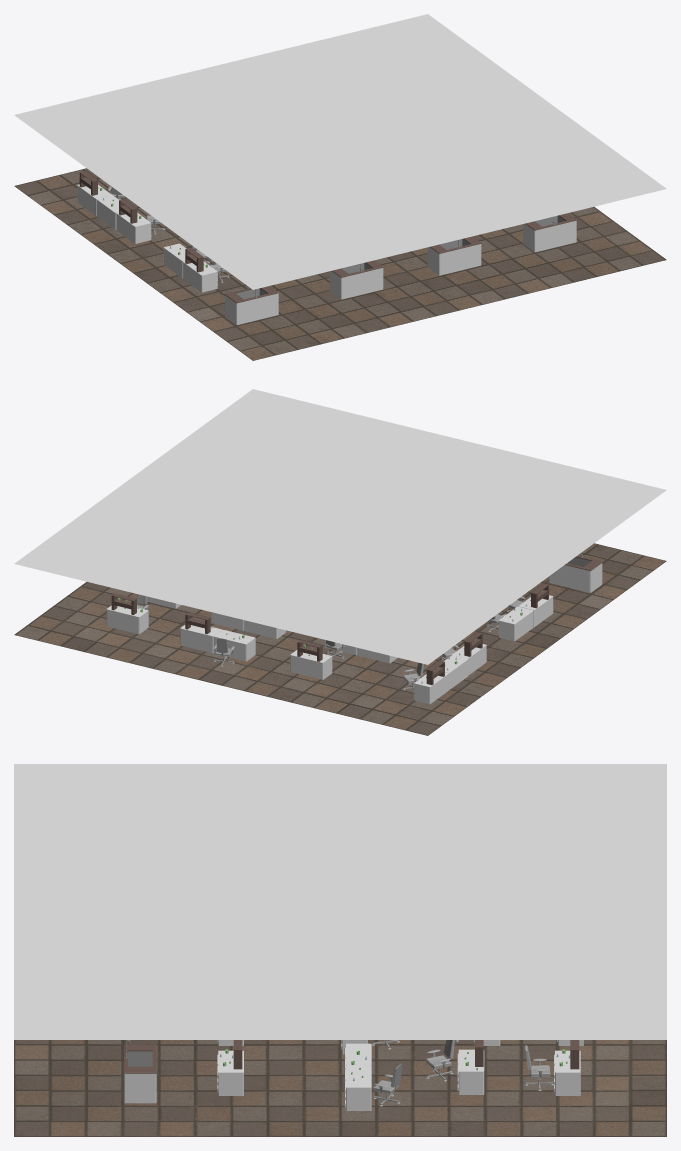
The picture shows the model from 3 angles, top to bottom: view 1: azimuth 30°, elevation 25°; view 2: azimuth 150°, elevation 25°; view 3: azimuth 270°, elevation 25°; orthographic projection. The views are drawn at different scales.
Visible parts, largest first — view 1: Techo2, Suelo2, NurbsPath.009, NurbsPath.007, NurbsPath.006, NurbsPath.008, Cube.060, Cube.064, Cube.063, Cube.062, Cube.057; view 2: Techo2, Suelo2, NurbsPath.009, Cube.084, Cube.062, Cube.056, Cube.071, Cube.072, Cube.057, Cube.063, Cube.064; view 3: Techo2, Suelo2, NurbsPath.008, Cube.086, Cube.097, Cube.084, Cube.054, Cube.087, Cylinder.304, Cylinder.263.
Boxes of the visible parts, <box> form: Techo2: <box>14,14,666,289</box>; Suelo2: <box>14,168,666,360</box>; NurbsPath.009: <box>224,286,278,324</box>; NurbsPath.007: <box>329,260,383,299</box>; NurbsPath.006: <box>427,236,481,275</box>; NurbsPath.008: <box>523,213,576,252</box>; Cube.060: <box>116,212,151,243</box>; Cube.064: <box>183,261,217,292</box>; Cube.063: <box>96,195,118,229</box>; Cube.062: <box>163,243,186,278</box>; Cube.057: <box>77,184,111,215</box>; Techo2: <box>14,389,666,664</box>; Suelo2: <box>14,543,666,735</box>; NurbsPath.009: <box>549,552,602,592</box>; Cube.084: <box>106,605,148,634</box>; Cube.062: <box>498,606,533,641</box>; Cube.056: <box>290,650,332,679</box>; Cube.071: <box>213,629,255,661</box>; Cube.072: <box>180,625,221,653</box>; Cube.057: <box>414,672,448,704</box>; Cube.063: <box>444,655,468,689</box>; Cube.064: <box>518,595,553,627</box>; Techo2: <box>14,764,666,1039</box>; Suelo2: <box>14,1040,666,1136</box>; NurbsPath.008: <box>124,1040,156,1103</box>; Cube.086: <box>344,1065,371,1110</box>; Cube.097: <box>457,1049,484,1094</box>; Cube.084: <box>554,1050,580,1095</box>; Cube.054: <box>217,1050,243,1095</box>; Cube.087: <box>344,1043,371,1069</box>; Cylinder.304: <box>426,1040,454,1081</box>; Cylinder.263: <box>373,1063,402,1106</box>.
Bounding box in the file's own units: 300 × 49.16 × 300.
